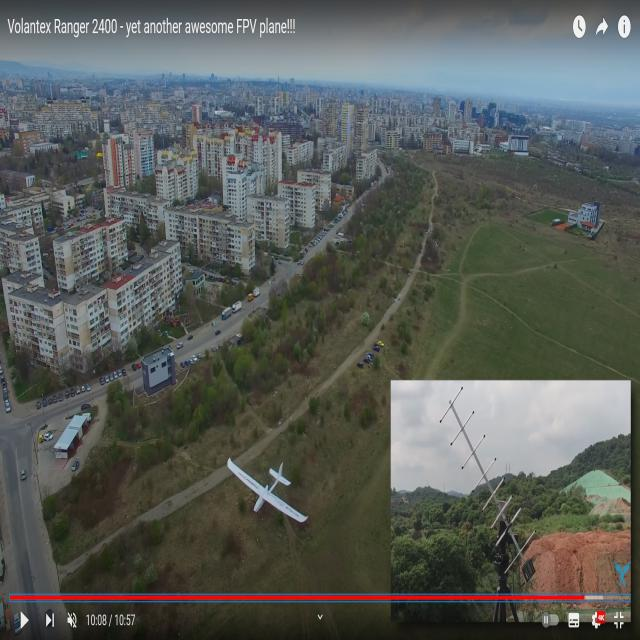iha: (253, 485, 272, 502)
